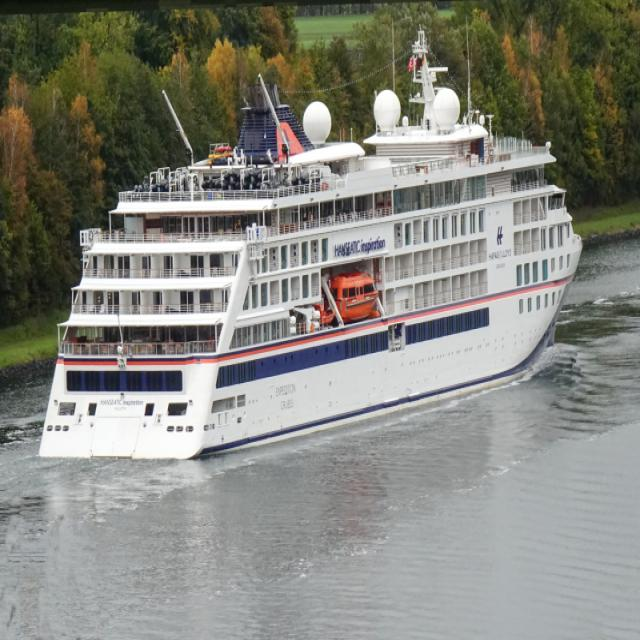cruises: (35, 30, 586, 468)
